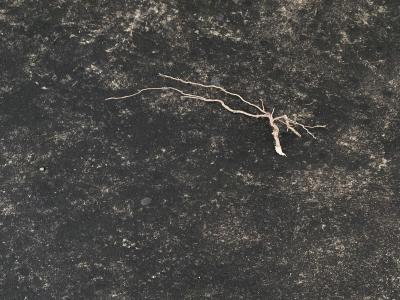Root: (106, 73, 315, 156)
